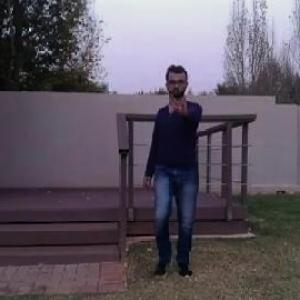takeoff-hand: (169, 87, 198, 120)
